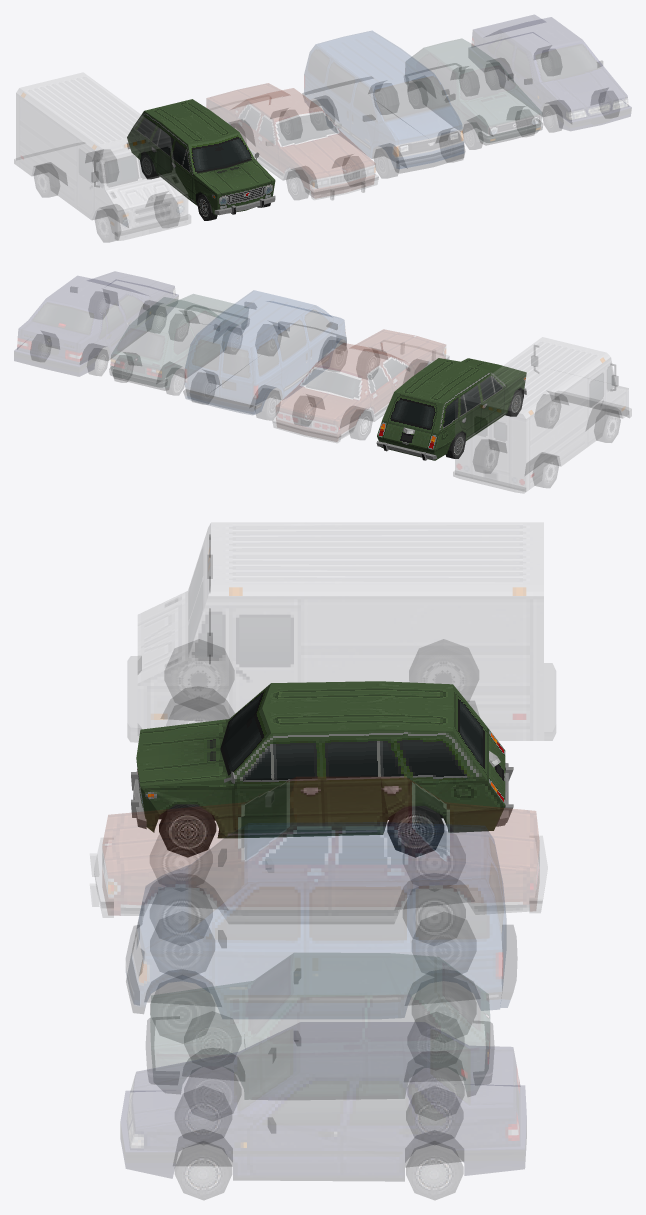
The model's file is Cars.glb.
3 renders of one model, top to bottom at view 1: azimuth 30°, elevation 25°; view 2: azimuth 150°, elevation 25°; view 3: azimuth 270°, elevation 25°, orthographic. The views are drawn at different scales.
Parts seen in each view (by area): view 1: Car8, Car4, Car2, Car, Car5, Car3; view 2: Car8, Car4, Car2, Car5, Car, Car3; view 3: Car8, Car4, Car2, Car5, Car, Car3.
Boxes of the visible parts, box(x1,y1,x2,y2) form: Car8: box(14, 73, 190, 242); Car4: box(302, 31, 465, 178); Car2: box(469, 15, 631, 132); Car: box(126, 99, 275, 220); Car5: box(206, 83, 378, 199); Car3: box(404, 39, 542, 149); Car8: box(453, 337, 631, 493); Car4: box(183, 290, 347, 420); Car2: box(14, 271, 178, 376); Car5: box(272, 329, 449, 442); Car: box(376, 358, 526, 460); Car3: box(109, 294, 249, 395); Car8: box(127, 522, 555, 742); Car4: box(126, 822, 517, 1042); Car2: box(120, 1022, 526, 1199); Car5: box(90, 777, 547, 937); Car: box(131, 681, 513, 857); Car3: box(146, 953, 494, 1113).
Size of the model in its own units: 14.04 by 2.33 by 5.39.
Materials: 6 (6 with a texture image).
